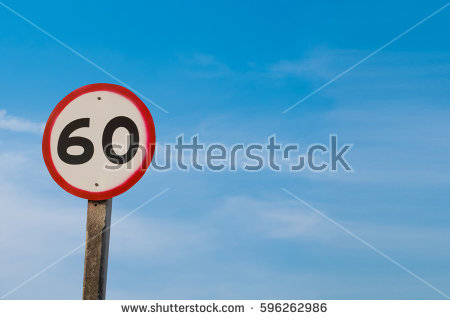Speed_limit_60km: (44, 83, 156, 200)
